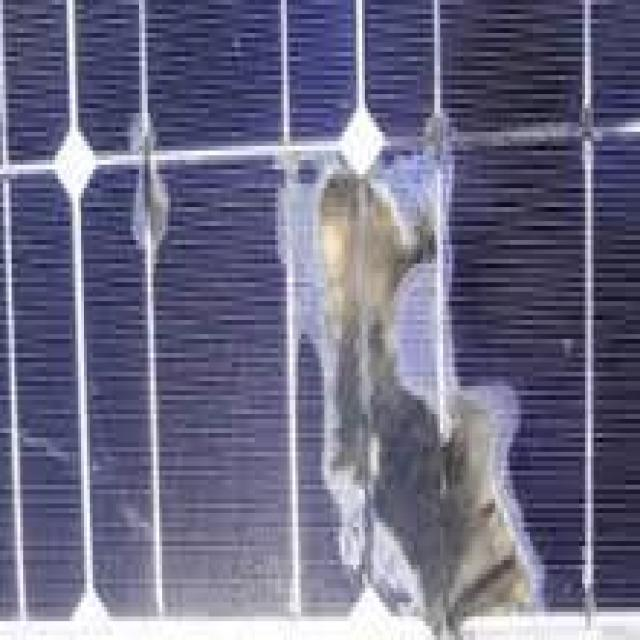Bird-drop: (266, 122, 540, 636), (113, 113, 195, 265)
